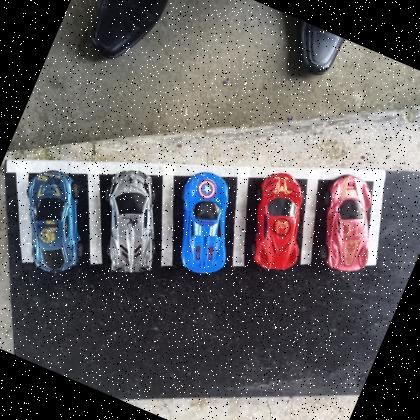Car: (78, 162, 186, 286), (0, 162, 108, 282), (156, 166, 255, 282), (231, 167, 325, 278), (302, 170, 395, 280)
